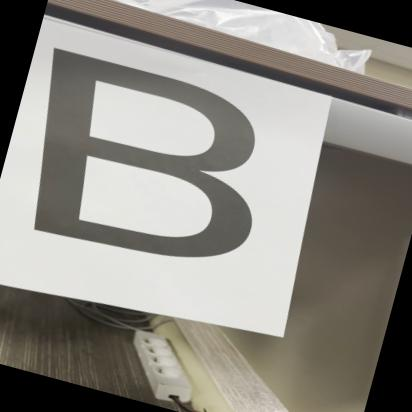seat: (0, 36, 310, 295)
